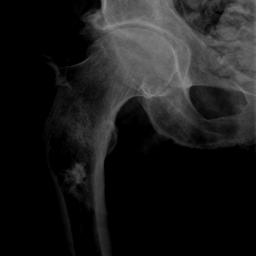cancer: (52, 154, 96, 212)
